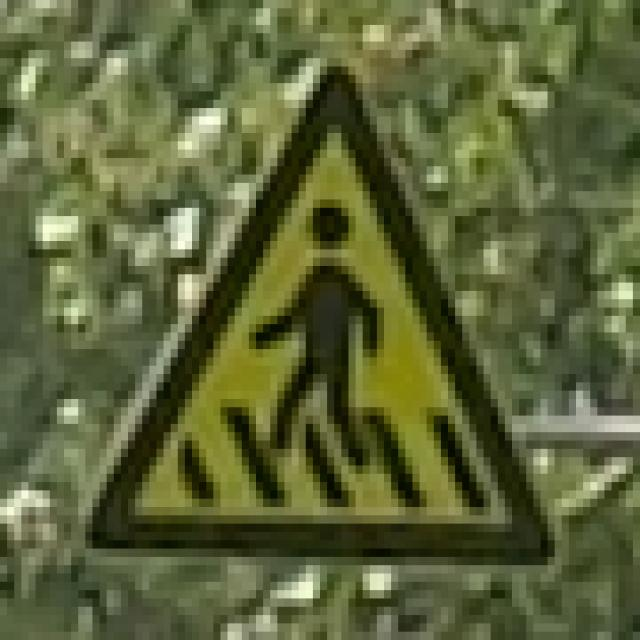Crossing: (79, 59, 567, 560)
